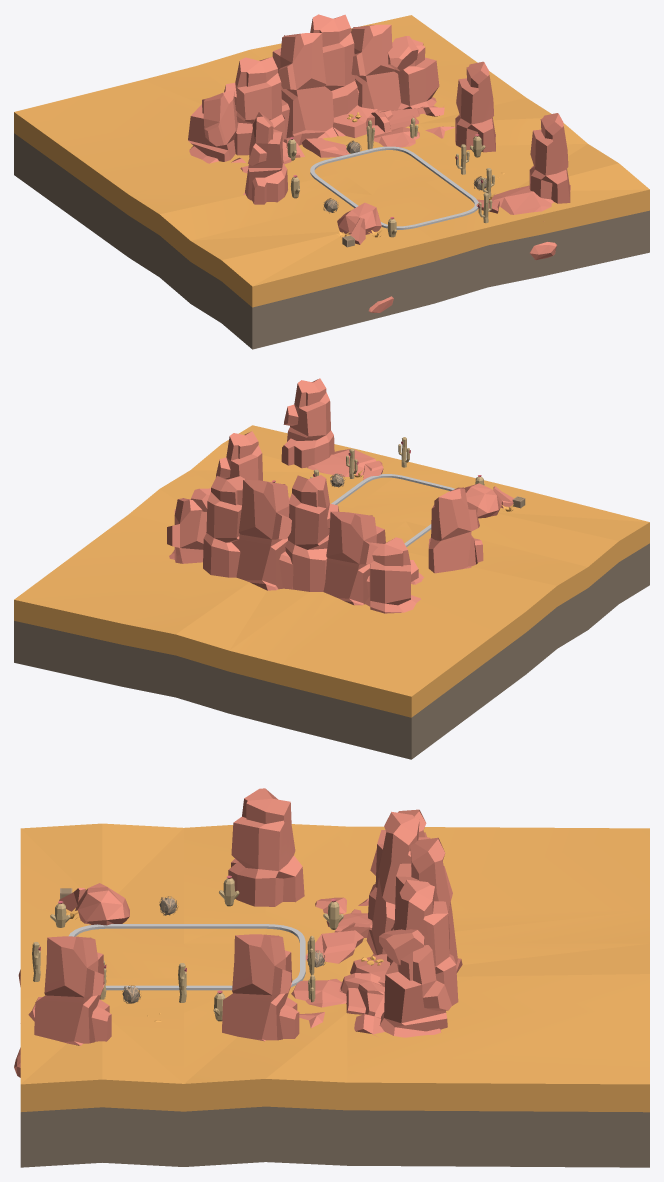
File: Lvl_1.fbx
3 renders of one model, top to bottom at view 1: azimuth 30°, elevation 25°; view 2: azimuth 150°, elevation 25°; view 3: azimuth 270°, elevation 25°, orthographic. The views are drawn at different scales.
Parts seen in each view (by area): view 1: world_field__4_.001, rock03__4_.001, rock03__5_.001, rock03__2_.002, rock03__3_.001, rock03__10_.001, rock03__10_.003, rock03__10_.002, rock03__6_.001, rock03__1_.002, Cube.001, stone_round__13_.001 (+6 smaller); view 2: world_field__4_.001, rock03__3_.001, rock03__4_.001, rock03__5_.001, rock03__10_.003, rock03__10_.001, rock03__2_.002, rock03__6_.001, rock03__1_.002, rock03__10_.002, stone_round__13_.001, stone_round.003 (+1 smaller); view 3: world_field__4_.001, rock03__10_.003, rock03__10_.001, rock03__10_.002, rock03__1_.002, rock03__2_.002, rock03__4_.001, rock03__3_.001, Cube.001, rock03__9_.001, stone_round.003, stone_pointy__2_.001 (+4 smaller).
Boxes of the visible parts, <box> form: world_field__4_.001: <box>14,15,649,349</box>; rock03__4_.001: <box>272,33,333,145</box>; rock03__5_.001: <box>224,56,284,155</box>; rock03__2_.002: <box>351,24,401,112</box>; rock03__3_.001: <box>310,14,357,117</box>; rock03__10_.001: <box>529,113,570,203</box>; rock03__10_.003: <box>243,112,287,204</box>; rock03__10_.002: <box>455,61,495,152</box>; rock03__6_.001: <box>188,89,238,163</box>; rock03__1_.002: <box>394,39,439,109</box>; Cube.001: <box>310,146,478,229</box>; stone_round__13_.001: <box>491,185,554,221</box>; world_field__4_.001: <box>14,425,649,759</box>; rock03__3_.001: <box>232,480,293,590</box>; rock03__4_.001: <box>285,475,339,591</box>; rock03__5_.001: <box>323,511,385,605</box>; rock03__10_.003: <box>428,487,483,573</box>; rock03__10_.001: <box>281,378,334,468</box>; rock03__2_.002: <box>203,476,245,577</box>; rock03__6_.001: <box>364,537,420,613</box>; rock03__1_.002: <box>167,498,206,563</box>; rock03__10_.002: <box>216,431,262,480</box>; stone_round__13_.001: <box>307,449,375,476</box>; stone_round.003: <box>464,483,500,518</box>; world_field__4_.001: <box>20,823,649,1167</box>; rock03__10_.003: <box>228,788,304,906</box>; rock03__10_.001: <box>34,936,111,1045</box>; rock03__10_.002: <box>222,934,299,1041</box>; rock03__1_.002: <box>379,945,451,1037</box>; rock03__2_.002: <box>390,879,458,1005</box>; rock03__4_.001: <box>366,811,430,955</box>; rock03__3_.001: <box>387,837,462,973</box>; Cube.001: <box>68,924,305,990</box>; rock03__9_.001: <box>340,973,384,1037</box>; stone_round.003: <box>77,883,129,925</box>; stone_pointy__2_.001: <box>305,930,363,963</box>.
Bounding box in the file's own units: 8690 × 3491 × 9122.
